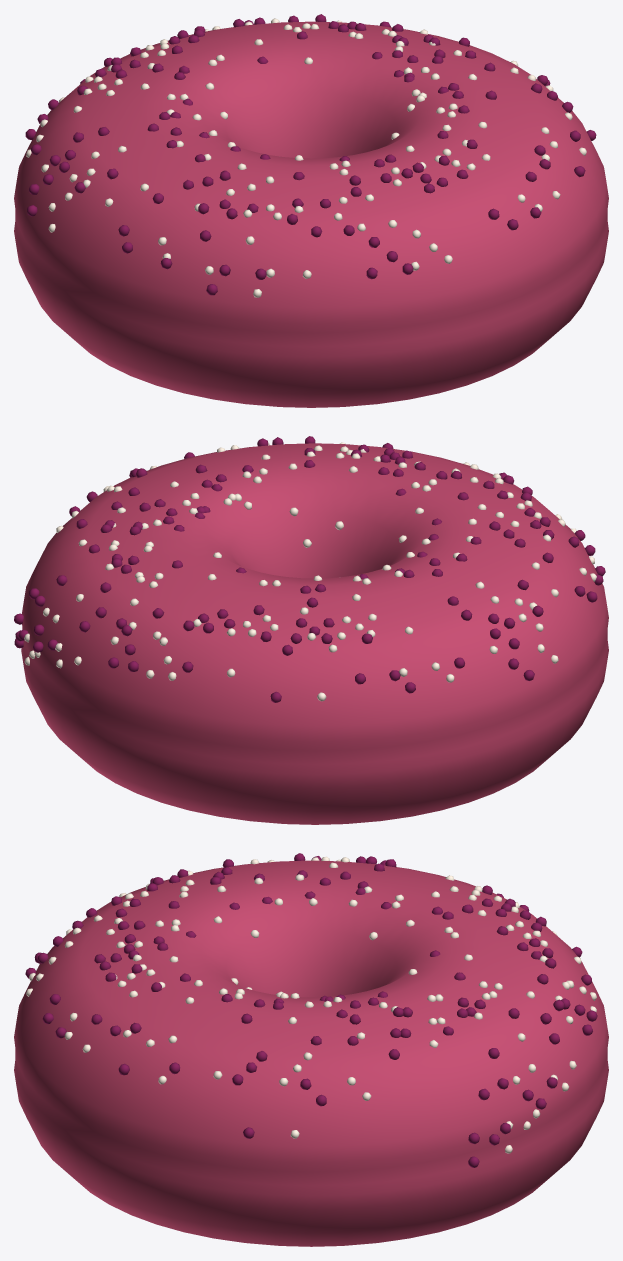
The model's file is strawberry_glazed.fbx.
The picture shows the model from 3 angles, top to bottom: view 1: azimuth 30°, elevation 25°; view 2: azimuth 150°, elevation 25°; view 3: azimuth 270°, elevation 25°; orthographic projection.
Parts seen in each view (by area): view 1: strawberry glazed.004; view 2: strawberry glazed.004; view 3: strawberry glazed.004.
Part boxes in pixels (x1,y1,x2,y2): strawberry glazed.004: (14,14,608,407); strawberry glazed.004: (14,436,608,824); strawberry glazed.004: (14,853,608,1246).
Size of the model in its own units: 258 by 106 by 258.
